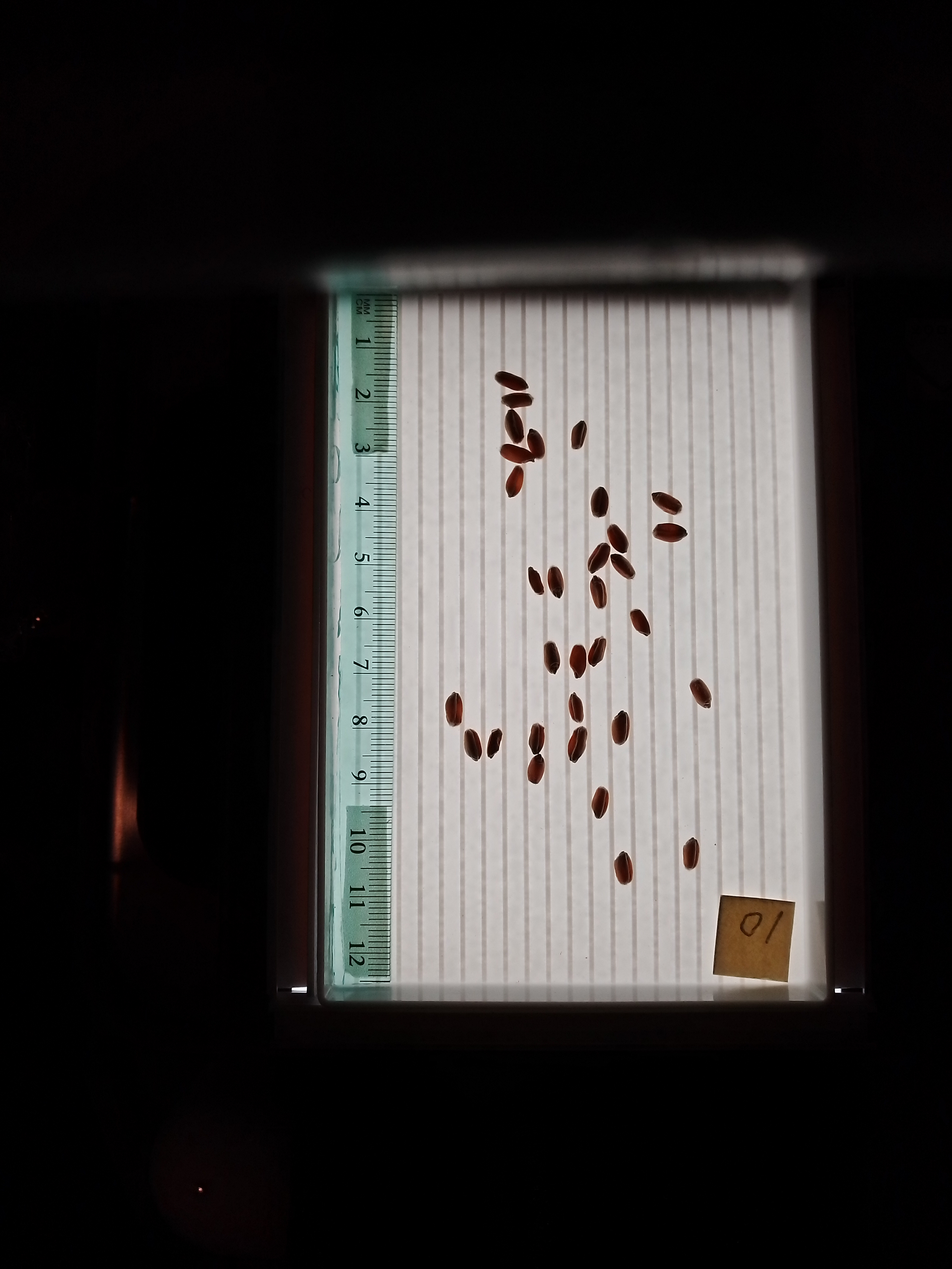seed mask: (567, 727, 587, 762), (652, 492, 682, 515), (501, 444, 534, 464), (588, 544, 610, 574), (611, 711, 630, 745), (496, 371, 528, 391), (654, 523, 686, 543), (691, 678, 712, 708), (611, 554, 635, 579), (614, 853, 633, 884), (608, 525, 628, 554), (506, 411, 524, 442), (569, 645, 587, 676), (446, 694, 463, 726), (591, 487, 609, 517), (464, 730, 482, 759), (591, 577, 607, 609), (589, 637, 606, 667), (592, 788, 609, 818), (527, 430, 545, 458), (506, 468, 524, 496), (548, 566, 564, 597), (528, 755, 545, 784), (544, 643, 560, 673), (529, 724, 545, 754), (571, 421, 587, 450), (631, 610, 650, 634), (487, 729, 503, 757), (569, 694, 584, 723), (684, 839, 698, 870), (528, 568, 544, 595), (503, 395, 533, 409)
